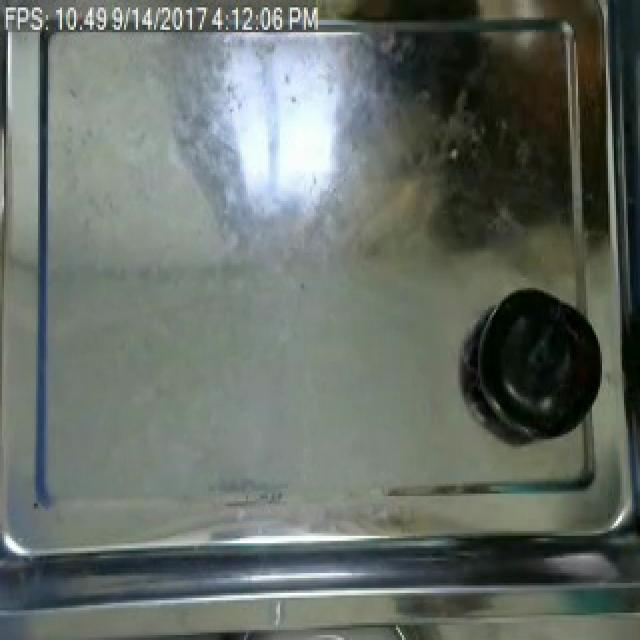Fruit: (452, 8, 578, 218), (470, 285, 604, 439)
